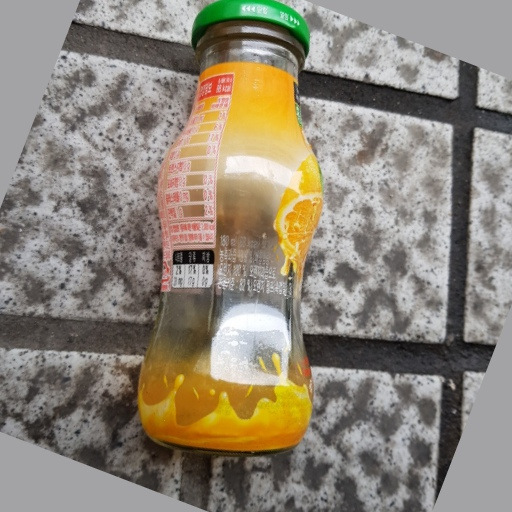Glass_4: (134, 2, 327, 449)
